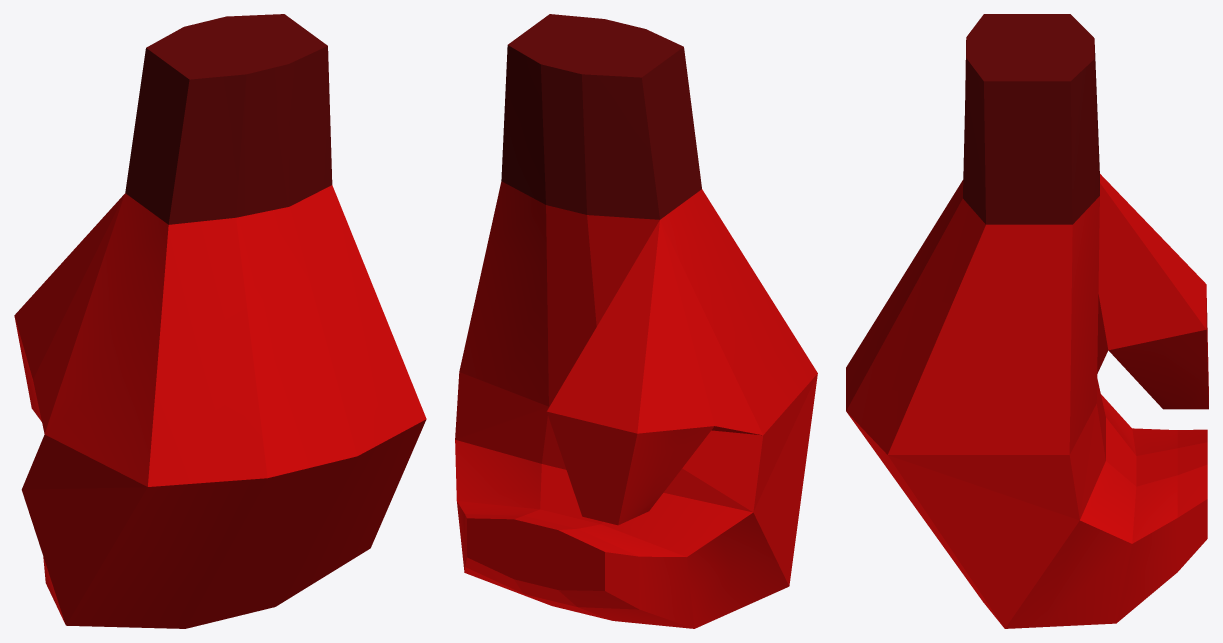
Rendered from Boxing Gloves.fbx.
3 views of the same model, side by side, from view 1: azimuth 30°, elevation 25°; view 2: azimuth 150°, elevation 25°; view 3: azimuth 270°, elevation 25° (orthographic). The views are drawn at different scales.
Visible parts, largest first — view 1: boxing2, boxing1; view 2: boxing2, boxing1; view 3: boxing2, boxing1.
Part boxes in pixels (x1=…): boxing2: x1=14, y1=185, x2=426, y2=628; boxing1: x1=125, y1=14, x2=332, y2=224; boxing2: x1=455, y1=181, x2=817, y2=628; boxing1: x1=501, y1=14, x2=701, y2=219; boxing2: x1=846, y1=174, x2=1208, y2=628; boxing1: x1=963, y1=14, x2=1099, y2=224.
Bounding box in the file's own units: 173 × 291 × 175.
